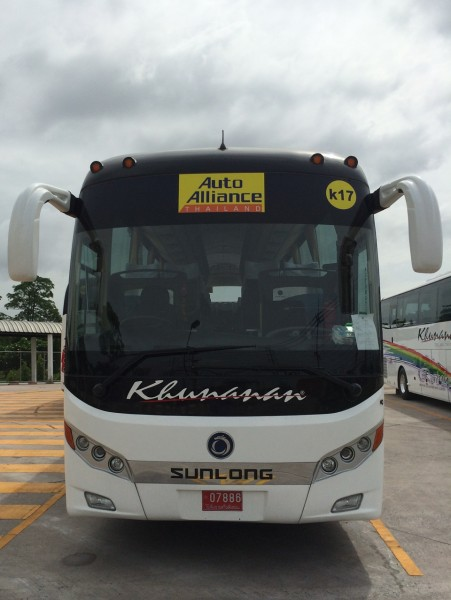bus: (60, 146, 384, 527)
